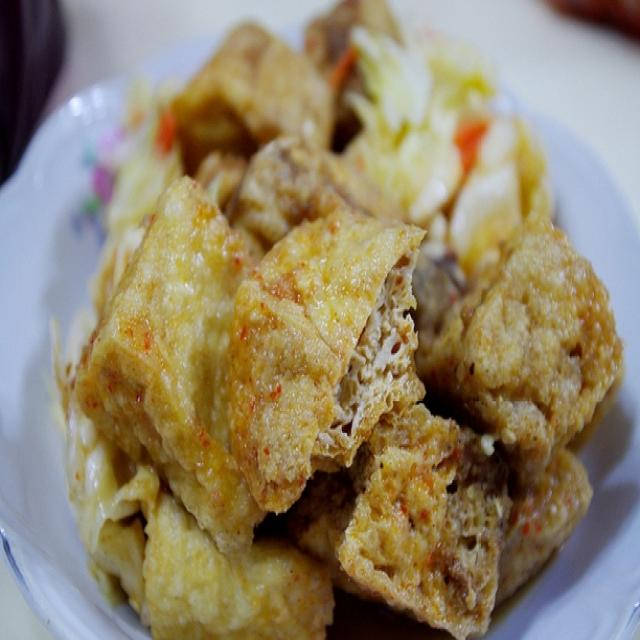豆腐料理: (16, 8, 630, 637)
